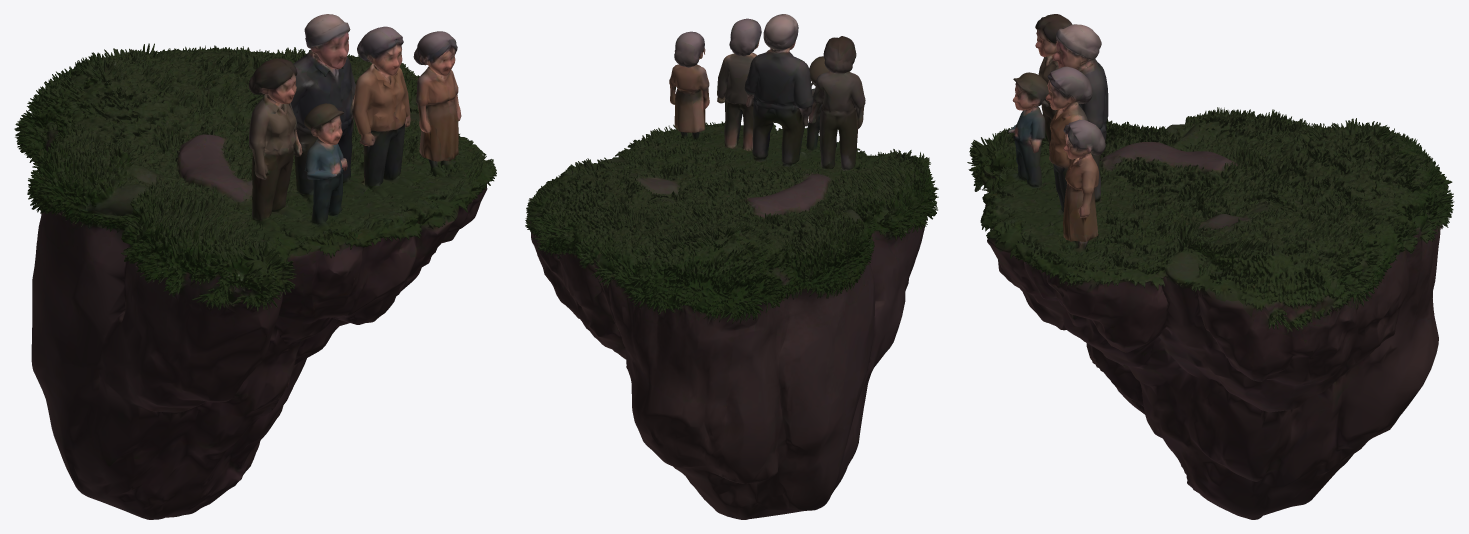
3 renders of one model, left to right at view 1: azimuth 30°, elevation 25°; view 2: azimuth 150°, elevation 25°; view 3: azimuth 270°, elevation 25°, orthographic. The views are drawn at different scales.
Parts seen in each view (by area): view 1: mesh_node; view 2: mesh_node; view 3: mesh_node.
Part boxes in pixels (bbox=[...]): mesh_node: bbox=[14, 14, 496, 519]; mesh_node: bbox=[525, 14, 938, 519]; mesh_node: bbox=[967, 14, 1454, 519].
Size of the model in its own units: 1.5 by 1.9 by 1.64.
Materials: 1 (1 with a texture image).
